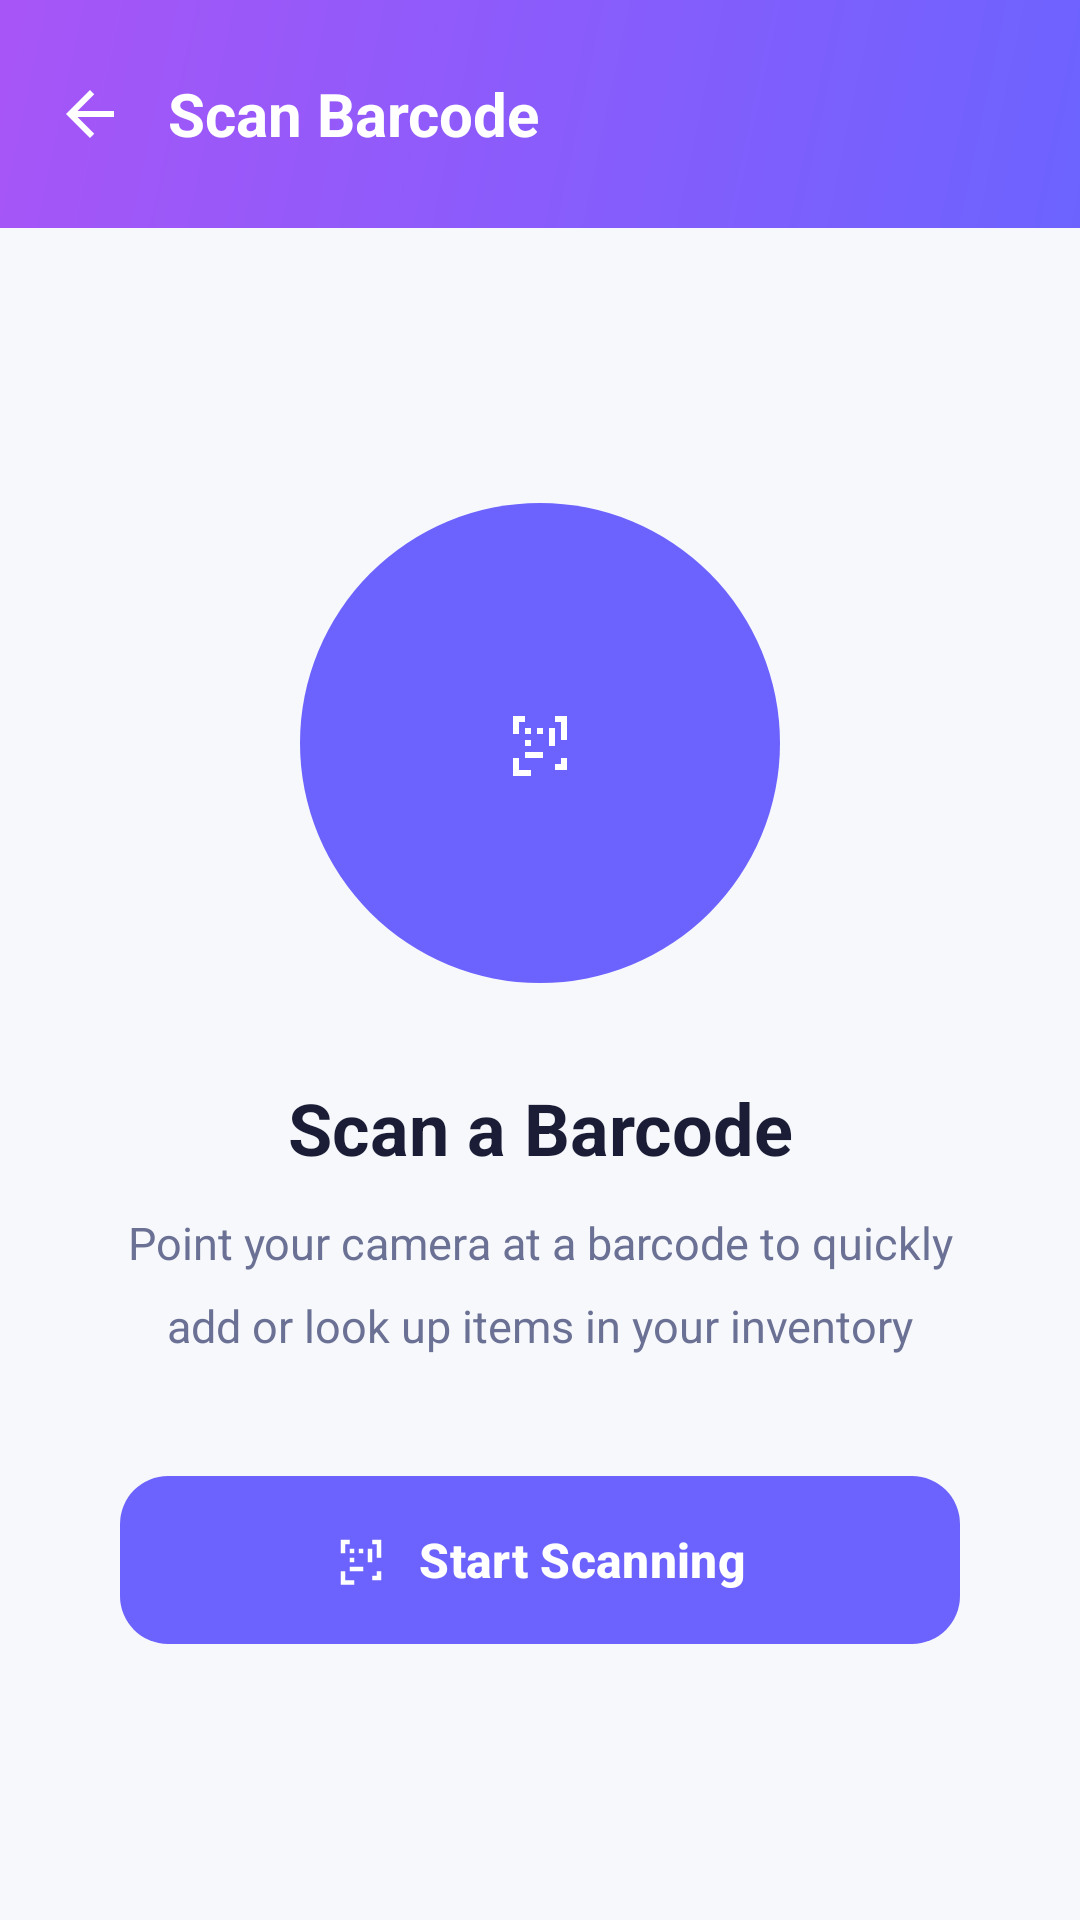

Icons on this 1080px×1920px Android screen, each with the point to tap as (x,y):
Go back: (90,114)
qr scan: (540,746)
